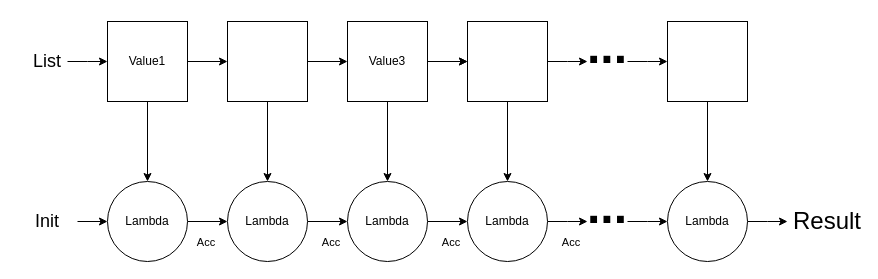
Some shapes in this 878 by 279 pixel diagram are drawn without their labels. Each missing label, with the box of its shape:
An: (666, 20, 748, 102)
Value2: (226, 20, 308, 102)
Value4: (466, 20, 548, 102)
